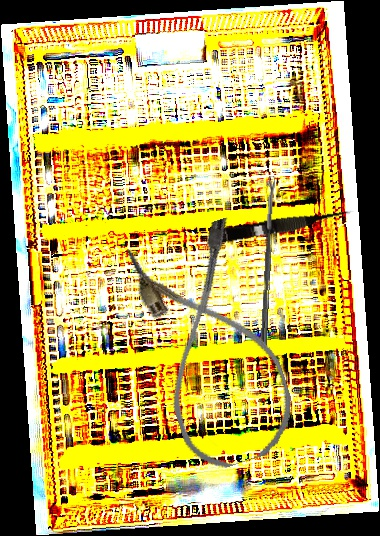Cannula: (122, 215, 306, 478)
Micro Scissor: (214, 204, 356, 248)
Surgical Spoon: (260, 175, 277, 348)
